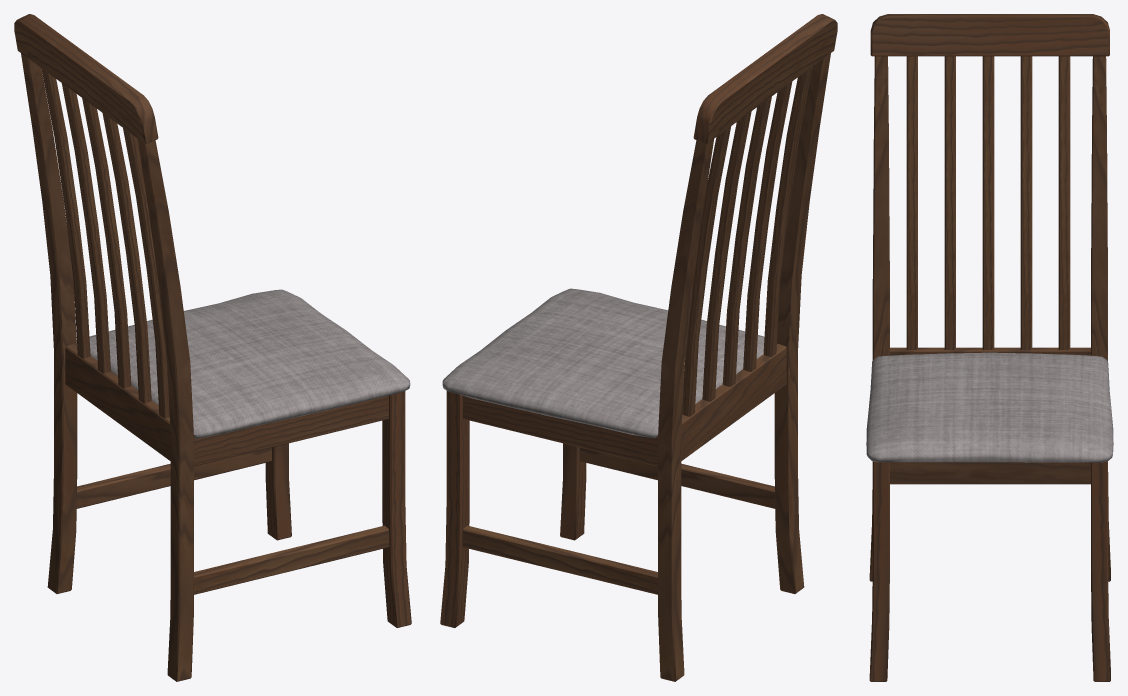
Rendered from chair3.glb.
The picture shows the model from 3 angles, left to right: view 1: azimuth 30°, elevation 25°; view 2: azimuth 150°, elevation 25°; view 3: azimuth 270°, elevation 25°; orthographic projection. The views are drawn at different scales.
Parts seen in each view (by area): view 1: Cube.010; view 2: Cube.010; view 3: Cube.010.
Boxes of the visible parts, x1,y1,x2,y2 form: Cube.010: (14,14,411,681); Cube.010: (440,14,837,681); Cube.010: (866,14,1113,681).
Size of the model in its own units: 0.4659 by 0.9465 by 0.3873.
Materials: 1 (1 with a texture image).
